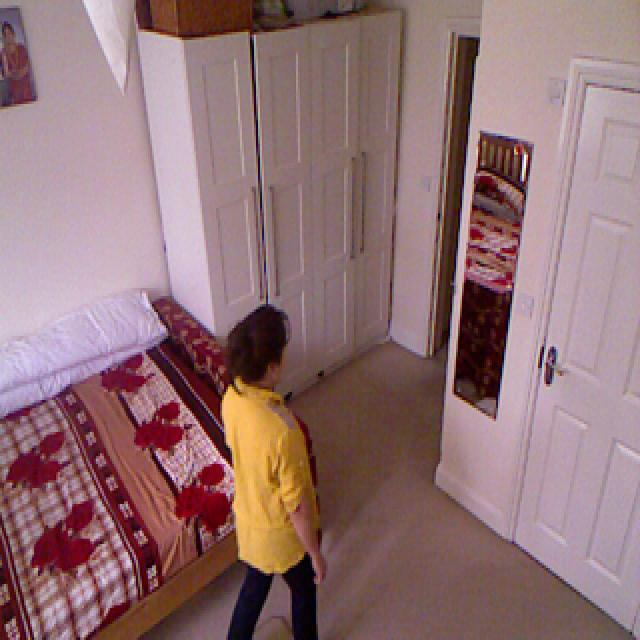standing: (213, 290, 347, 640)
